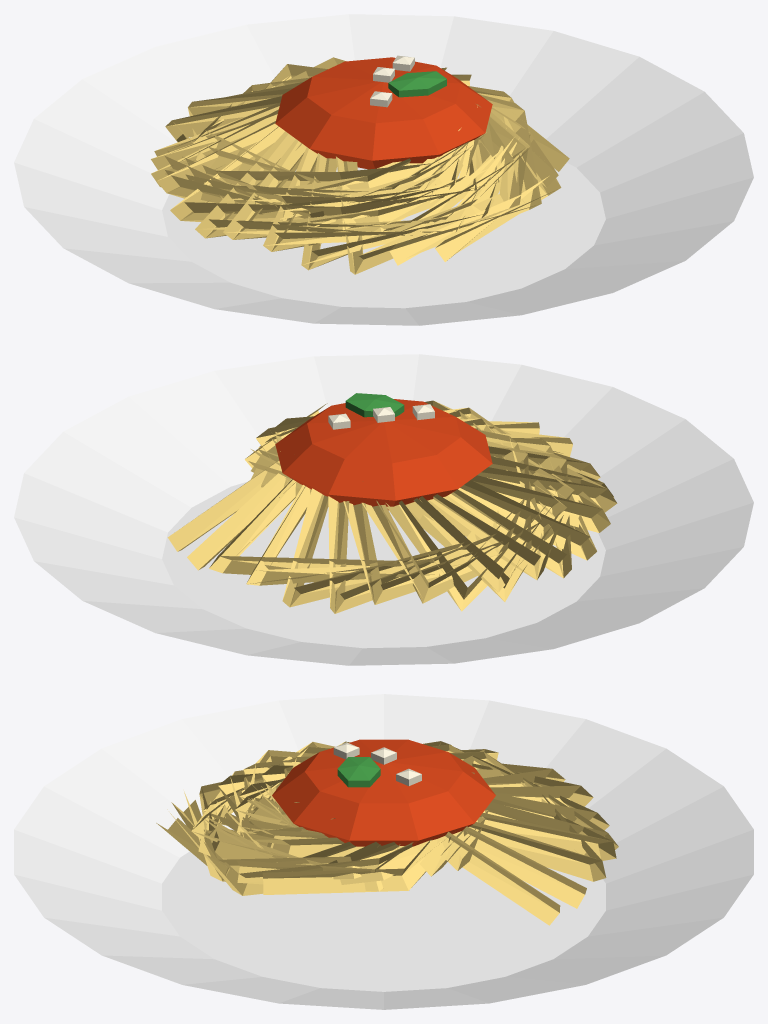
The model's file is spagetti.glb.
The picture shows the model from 3 angles, top to bottom: view 1: azimuth 30°, elevation 25°; view 2: azimuth 150°, elevation 25°; view 3: azimuth 270°, elevation 25°; orthographic projection.
Parts seen in each view (by area): view 1: spagetti; view 2: spagetti; view 3: spagetti.
Boxes of the visible parts, x1=… form: spagetti: x1=14, y1=14, x2=753, y2=325; spagetti: x1=14, y1=354, x2=753, y2=665; spagetti: x1=14, y1=694, x2=753, y2=1009.
Size of the model in its own units: 0.6 by 0.131 by 0.5939.
